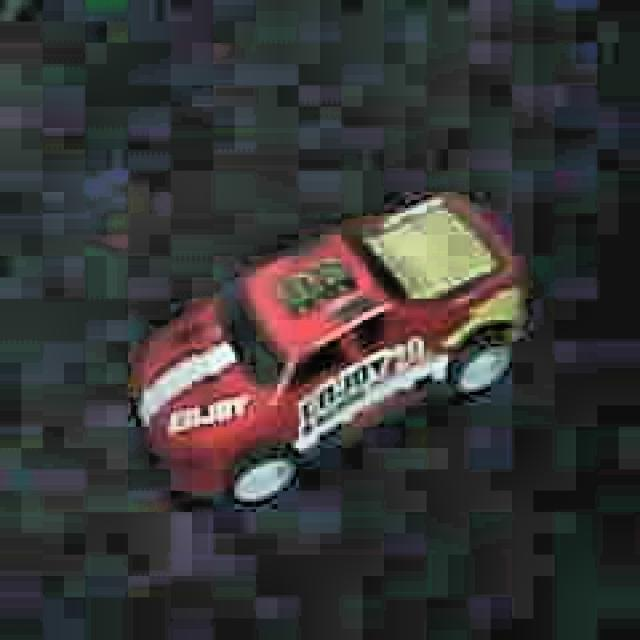car: (127, 180, 531, 526)
